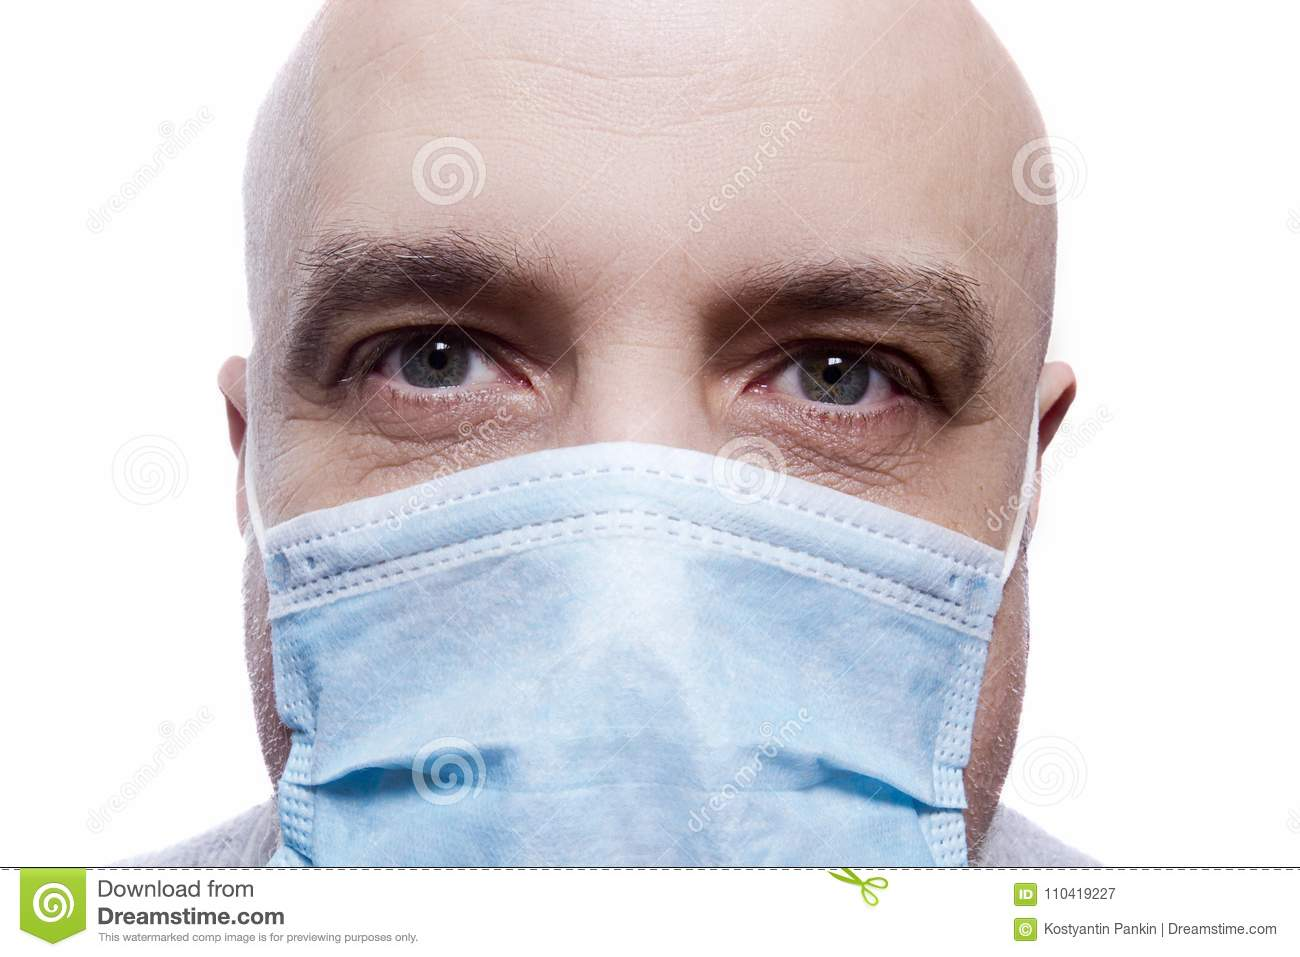mask: (217, 454, 1000, 869)
